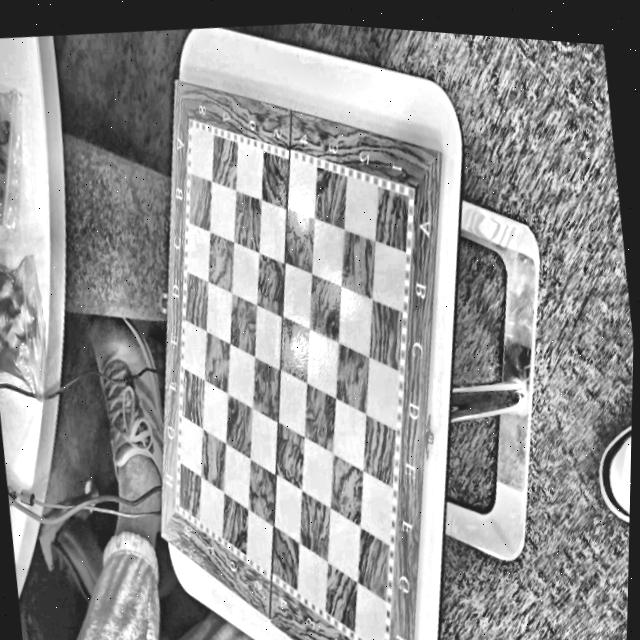chessboard: (163, 84, 440, 640)
